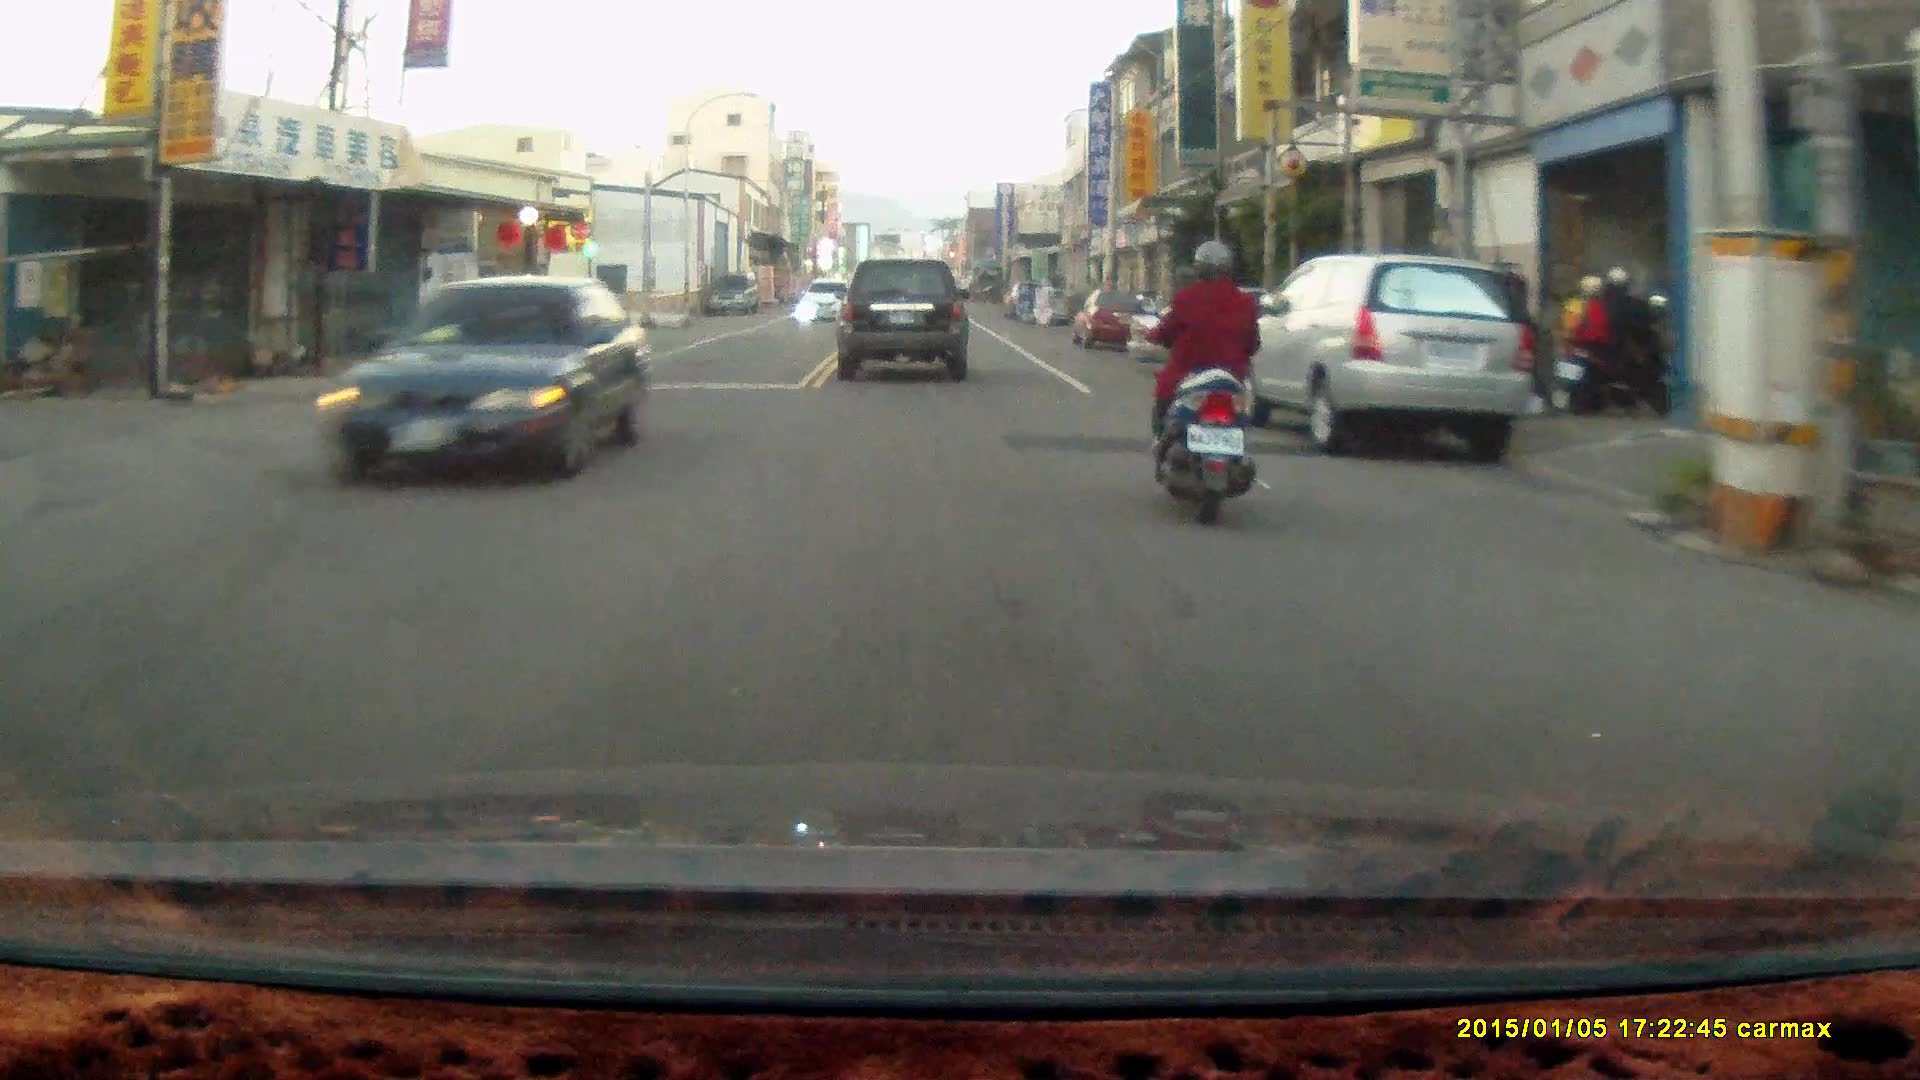rider: (1138, 240, 1258, 529), (1557, 260, 1666, 418)
vehicle: (329, 275, 648, 487), (1237, 257, 1532, 457), (835, 259, 972, 386), (1073, 290, 1151, 353)
